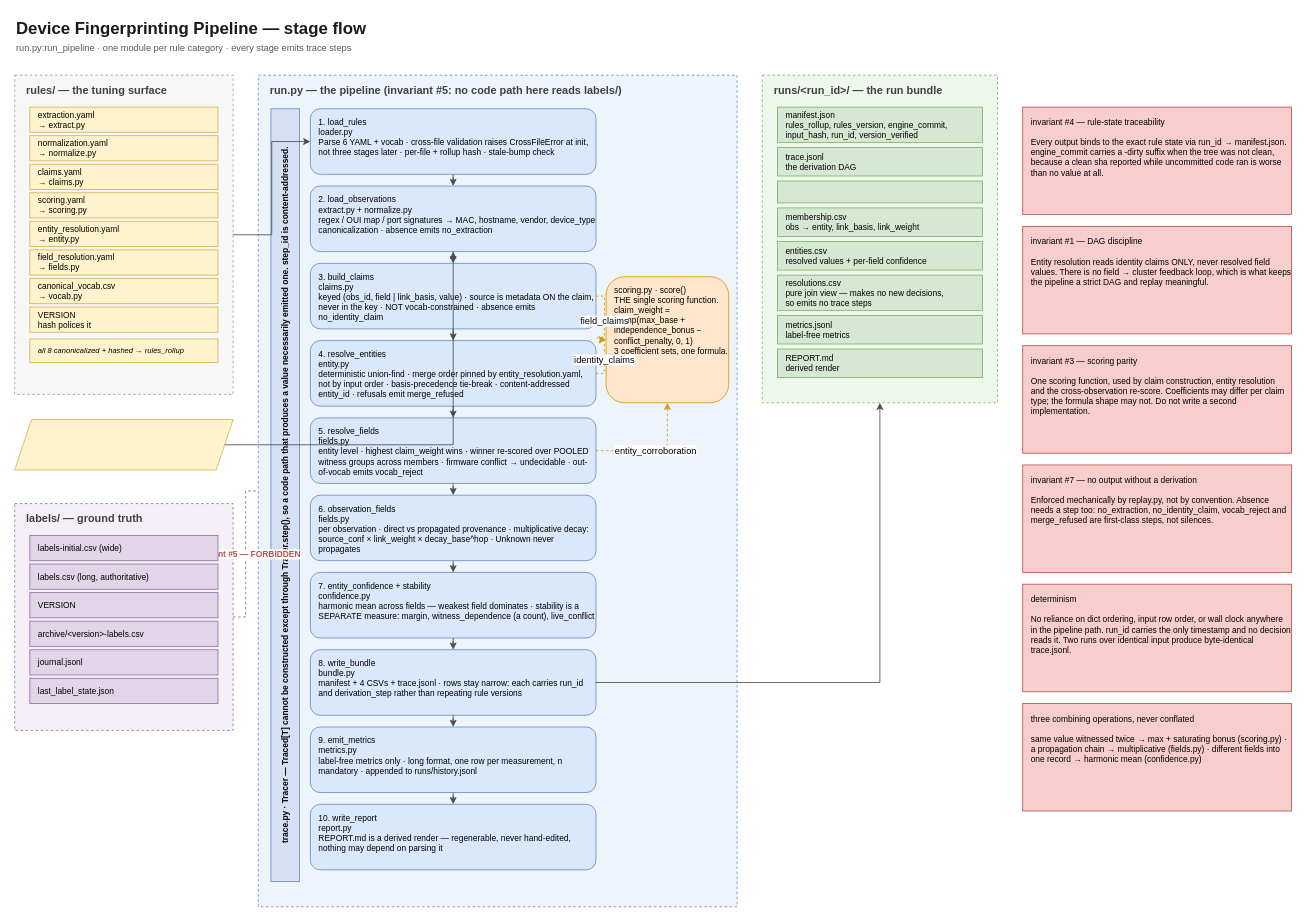
This 1306x921 diagram has some shape labels left out. The shapes that lost their labels are listed below. From the top down, each one's centre as x and y in pixels, then its label:
(x=879, y=191): claims.csv
(x=123, y=444): obs-data/observations.csv 74 raw observations
